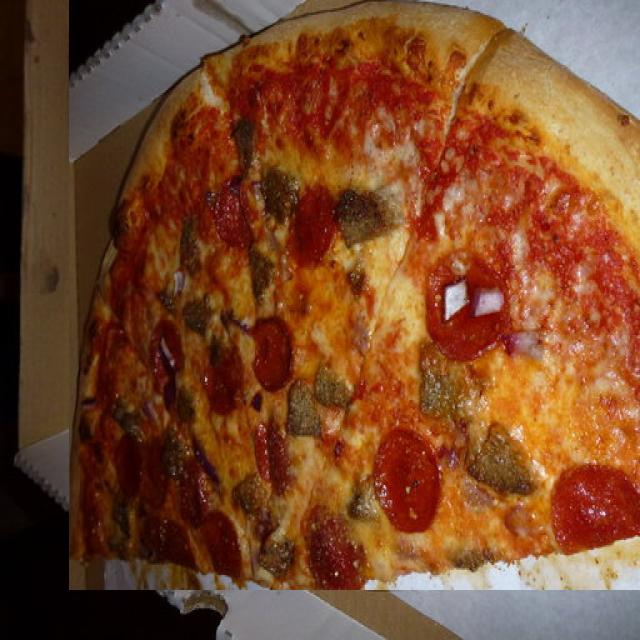pepperoni: (425, 230, 510, 340), (551, 35, 640, 123), (375, 57, 440, 163), (309, 0, 366, 77), (288, 322, 337, 410), (252, 195, 294, 269), (202, 176, 242, 250), (214, 340, 255, 408), (253, 91, 286, 171), (206, 10, 245, 77), (150, 194, 182, 270), (175, 65, 207, 134), (160, 19, 200, 67), (112, 93, 140, 154), (144, 84, 168, 154)
pizza: (69, 0, 640, 590)
